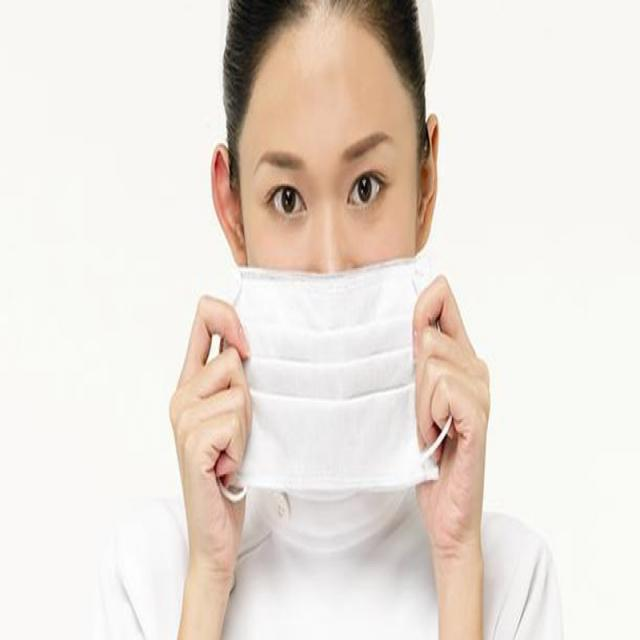mask: (228, 37, 440, 490)
